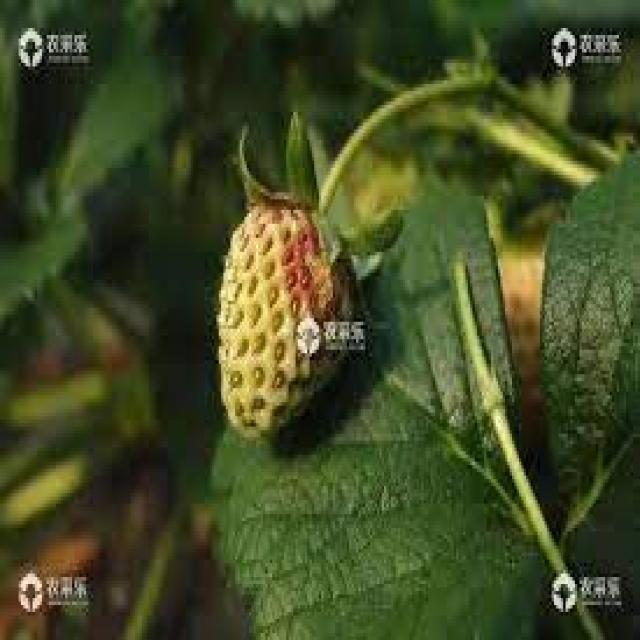Podredumbre de cuero: (207, 182, 357, 424)
